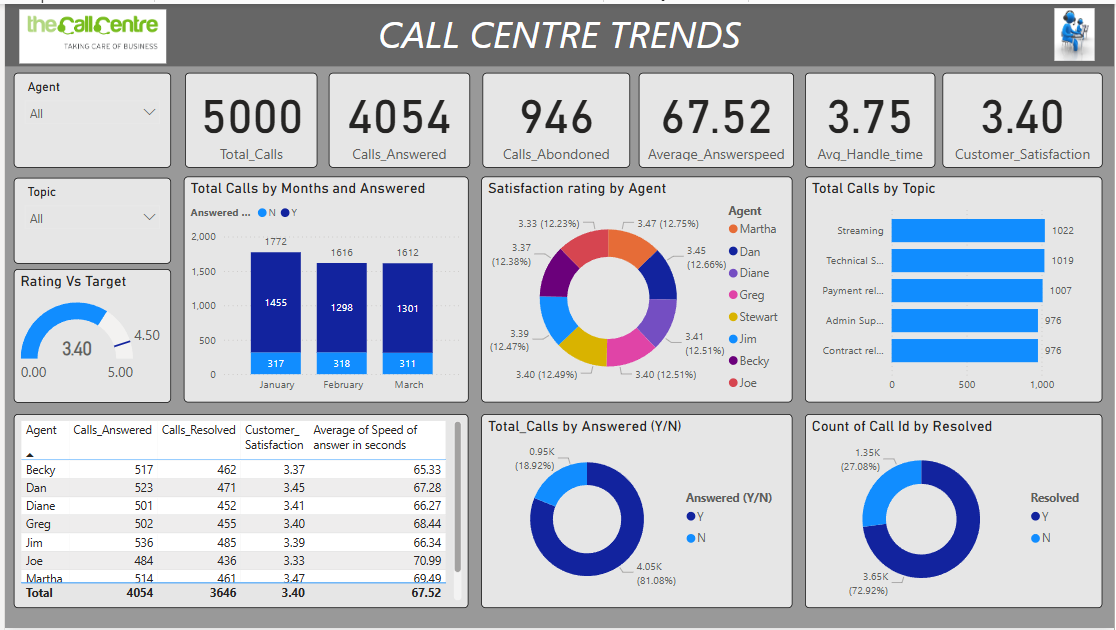

The dashboard page shown, as its layout file describes it:
{"tool":"powerbi","page":{"name":"Call Centre Trends","canvas":[1280,720],"ordinal":0},"visuals":[{"type":"card","fields":{"Values":["CallCentre_Data.Calls_Answered"]},"box":[373.7,79.1,163,109.6],"z":0},{"type":"textbox","box":[0,0,1279.7,72.1],"z":1000},{"type":"card","fields":{"Values":["CallCentre_Data.Calls_Abondoned"]},"box":[551.1,79.1,170.2,109.6],"z":2000},{"type":"gauge","title":"Rating Vs Target","fields":{"Y":["CallCentre_Data.Customer_Satisfaction"],"TargetValue":["CallCentre_data.Target_rating"]},"box":[10.1,305.9,181.8,154.4],"z":3000},{"type":"card","fields":{"Values":["CallCentre_Data.Average_Answerspeed"]},"box":[731.2,79.1,178.9,109.6],"z":4000},{"type":"slicer","fields":{"Values":["CallCentre_data.Agent"]},"box":[10.1,79.4,181.8,109.6],"z":5000},{"type":"slicer","fields":{"Values":["CallCentre_data.Topic"]},"box":[10.1,200.5,181.8,99.6],"z":6000},{"type":"card","fields":{"Values":["CallCentre_data.Total_Calls"]},"box":[207.8,79.1,152.9,109.6],"z":7000},{"type":"card","fields":{"Values":["CallCentre_data.Customer_Satisfaction"]},"box":[1082.1,79.4,184.7,109.6],"z":8000},{"type":"columnChart","title":"Total Calls by Months and Answered","fields":{"Series":["CallCentre_data.Answered (Y/N)"],"Y":["CountNonNull(CallCentre_data.Answered (Y/N))"],"Category":["CallCentre_data.Date.Variation.Date Hierarchy.Month"]},"box":[206.3,199.1,328.9,261.1],"z":9000},{"type":"clusteredBarChart","title":"Total Calls by Topic","fields":{"Category":["CallCentre_data.Topic"],"Y":["CountNonNull(CallCentre_data.Call Id)"]},"box":[923.4,199.1,343.4,261.1],"z":10000},{"type":"donutChart","title":"Satisfaction rating by Agent","fields":{"Y":["Avg(CallCentre_data.Satisfaction rating)"],"Category":["CallCentre_data.Agent"]},"box":[549.7,199.1,359.2,261.1],"z":11000},{"type":"tableEx","fields":{"Values":["CallCentre_data.Agent","CallCentre_data.Calls_Answered","CallCentre_data.Calls_Resolved","CallCentre_data.Customer_Satisfaction","Avg(CallCentre_data.Speed of answer in seconds)"]},"box":[10.1,473.2,525.2,223.6],"z":12000},{"type":"donutChart","fields":{"Y":["CountNonNull(CallCentre_data.Call Id)"],"Category":["CallCentre_data.Resolved"]},"box":[923.4,473.2,343.4,223.6],"z":13000},{"type":"donutChart","fields":{"Y":["CallCentre_data.Total_Calls"],"Category":["CallCentre_data.Answered (Y/N)"]},"box":[549.7,473.2,359.2,223.6],"z":14000},{"type":"card","fields":{"Values":["CallCentre_data.Avg_Handle_time"]},"box":[923.4,79.4,150,109.6],"z":15000},{"type":"image","box":[1188.8,0,90.9,70.7],"z":16000},{"type":"image","box":[10.1,1.4,181.8,72.1],"z":17000}]}

Visuals, with their boxes in screenshot pixels (x1, y1, x2, y2), scaled from the page's 1280x720 canvas onto the 1116x630 screenshot:
card - CallCentre_Data.Calls_Answered: (x1=326, y1=69, x2=468, y2=165)
textbox: (x1=0, y1=0, x2=1115, y2=63)
card - CallCentre_Data.Calls_Abondoned: (x1=480, y1=69, x2=629, y2=165)
"Rating Vs Target" gauge: (x1=9, y1=268, x2=167, y2=403)
card - CallCentre_Data.Average_Answerspeed: (x1=638, y1=69, x2=793, y2=165)
slicer - CallCentre_data.Agent: (x1=9, y1=69, x2=167, y2=165)
slicer - CallCentre_data.Topic: (x1=9, y1=175, x2=167, y2=263)
card - CallCentre_data.Total_Calls: (x1=181, y1=69, x2=314, y2=165)
card - CallCentre_data.Customer_Satisfaction: (x1=943, y1=69, x2=1104, y2=165)
"Total Calls by Months and Answered" columnChart: (x1=180, y1=174, x2=467, y2=403)
"Total Calls by Topic" clusteredBarChart: (x1=805, y1=174, x2=1104, y2=403)
"Satisfaction rating by Agent" donutChart: (x1=479, y1=174, x2=792, y2=403)
tableEx - CallCentre_data.Agent x CallCentre_data.Calls_Answered: (x1=9, y1=414, x2=467, y2=610)
donutChart - CountNonNull(CallCentre_data.Call Id) x CallCentre_data.Resolved: (x1=805, y1=414, x2=1104, y2=610)
donutChart - CallCentre_data.Total_Calls x CallCentre_data.Answered (Y/N): (x1=479, y1=414, x2=792, y2=610)
card - CallCentre_data.Avg_Handle_time: (x1=805, y1=69, x2=936, y2=165)
image: (x1=1036, y1=0, x2=1115, y2=62)
image: (x1=9, y1=1, x2=167, y2=64)
